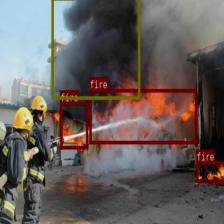fire: (89, 89, 197, 143), (59, 102, 88, 149), (195, 161, 224, 181)
smoke: (50, 0, 139, 98)
